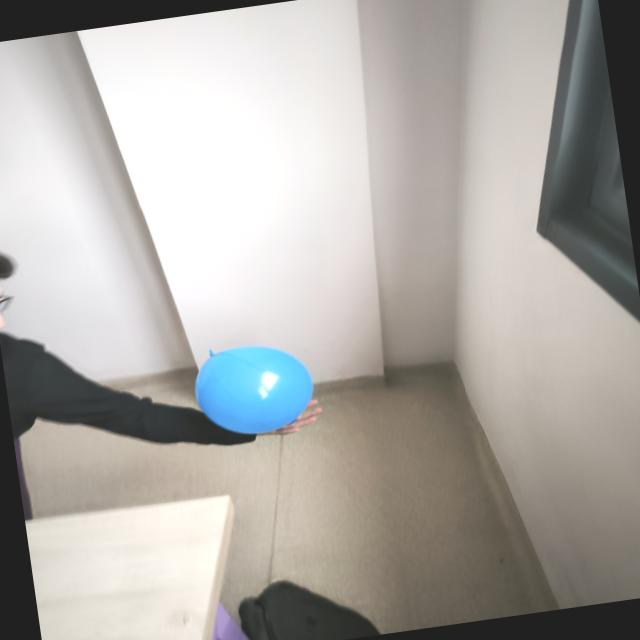balloon: (196, 346, 313, 434)
